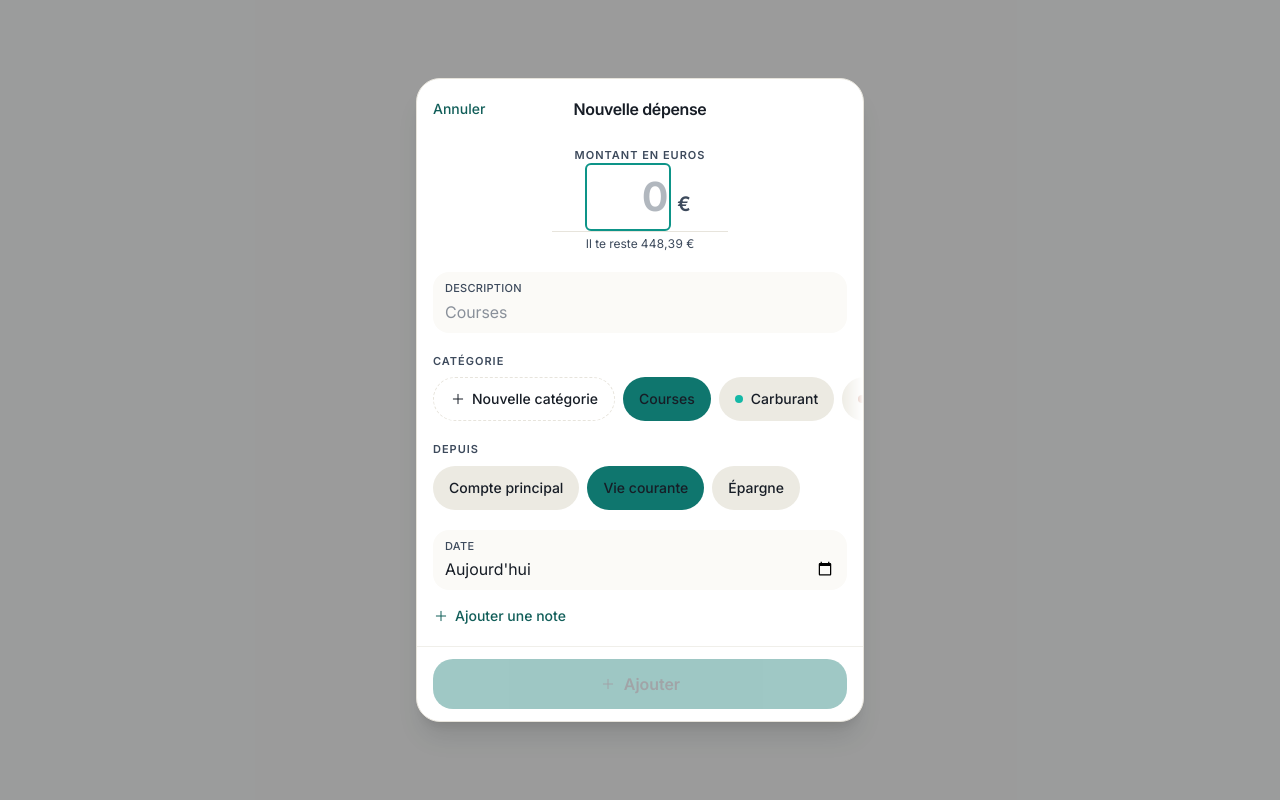
a day after today (H2) › names the refusal on the date field, and clears it when the date changes
Expected: the text "Il te reste 448,39 €" is shown, [586, 236, 694, 252]
Type "12" into the field with test id "add-expense-amount" at (628, 197), box [589, 167, 667, 227]
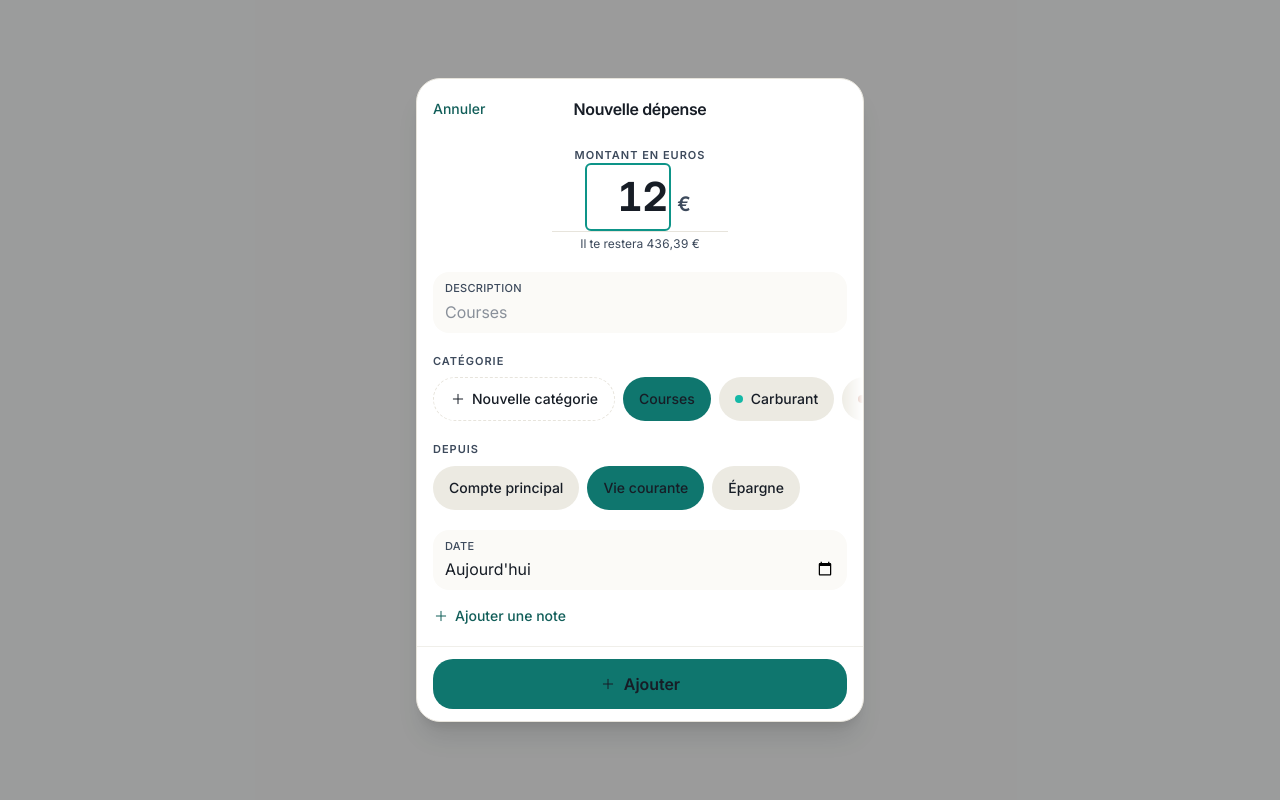
Click the button with test id "add-expense-submit" at (640, 684), box [433, 659, 847, 709]
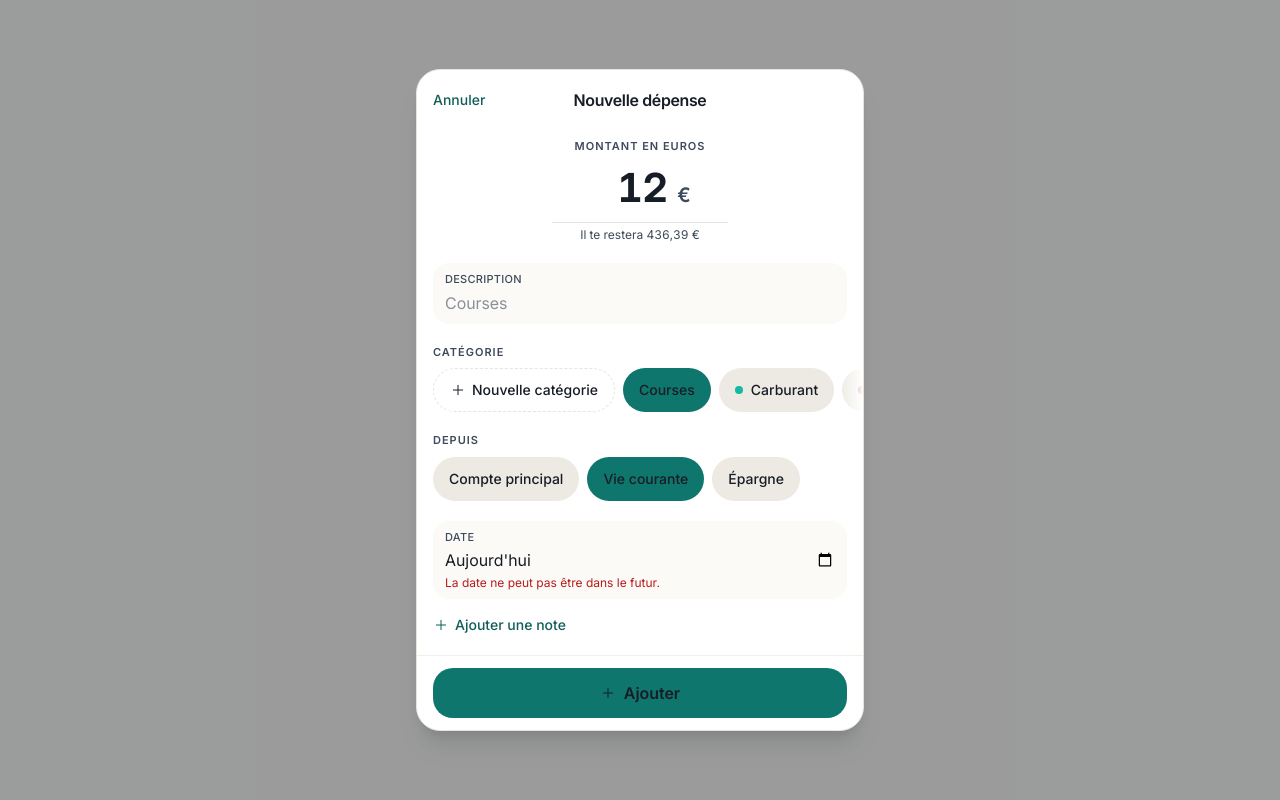
Now the message with test id "add-expense-date-error" reads "La date ne peut pas être dans le futur.", box [445, 575, 660, 590]
Type "2026-07-01" into the date field with test id "add-expense-date" at (640, 560), box [445, 547, 835, 573]
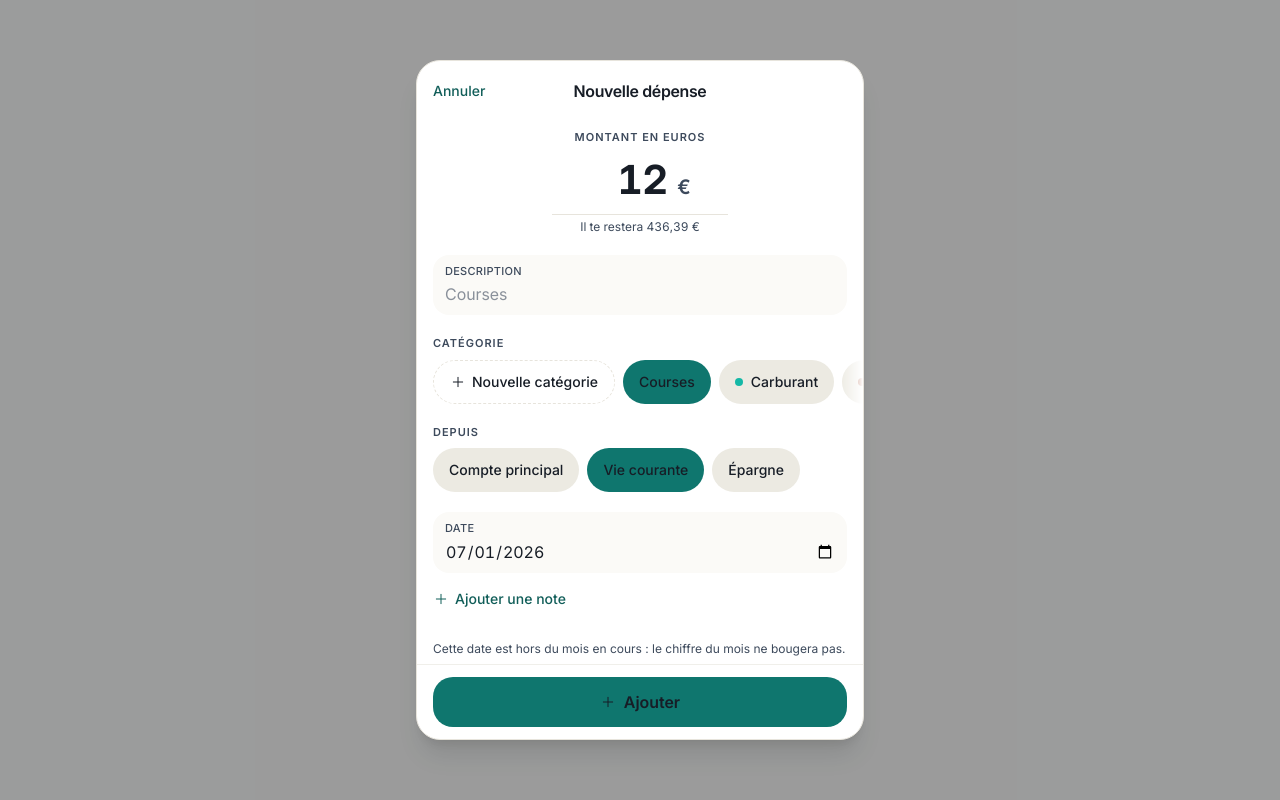
Now the message with test id "add-expense-date-error" is gone
